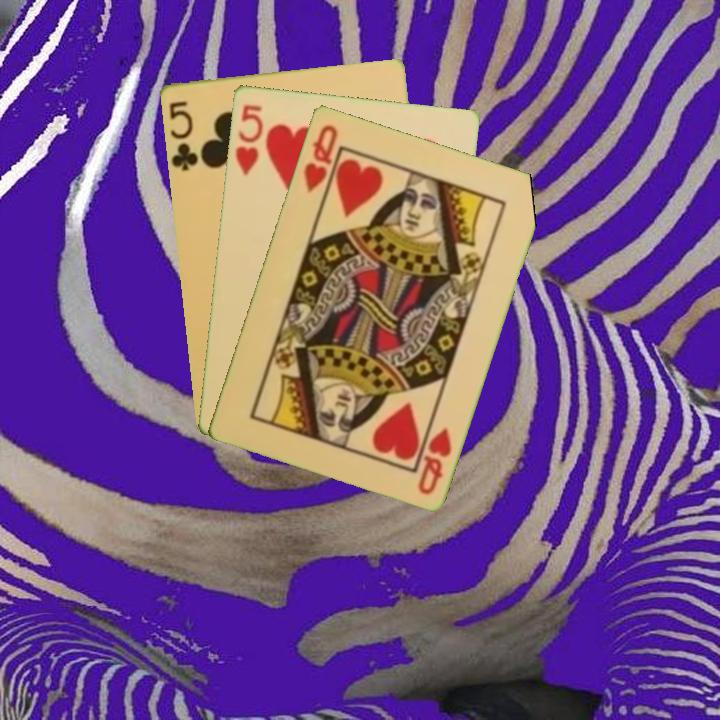5c: (165, 97, 204, 174)
5h: (231, 100, 266, 178)
Qh: (299, 120, 340, 195), (414, 423, 455, 497)
